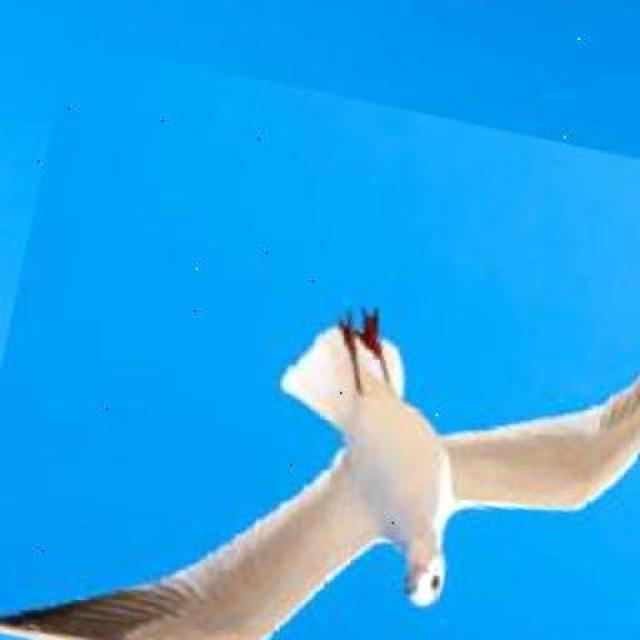airplane: (0, 38, 640, 640)
